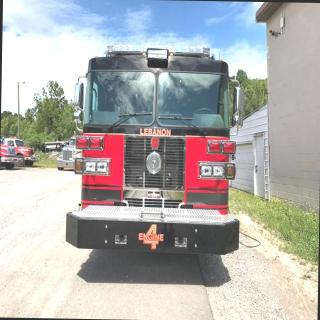Fire_truck: (64, 42, 245, 256)
